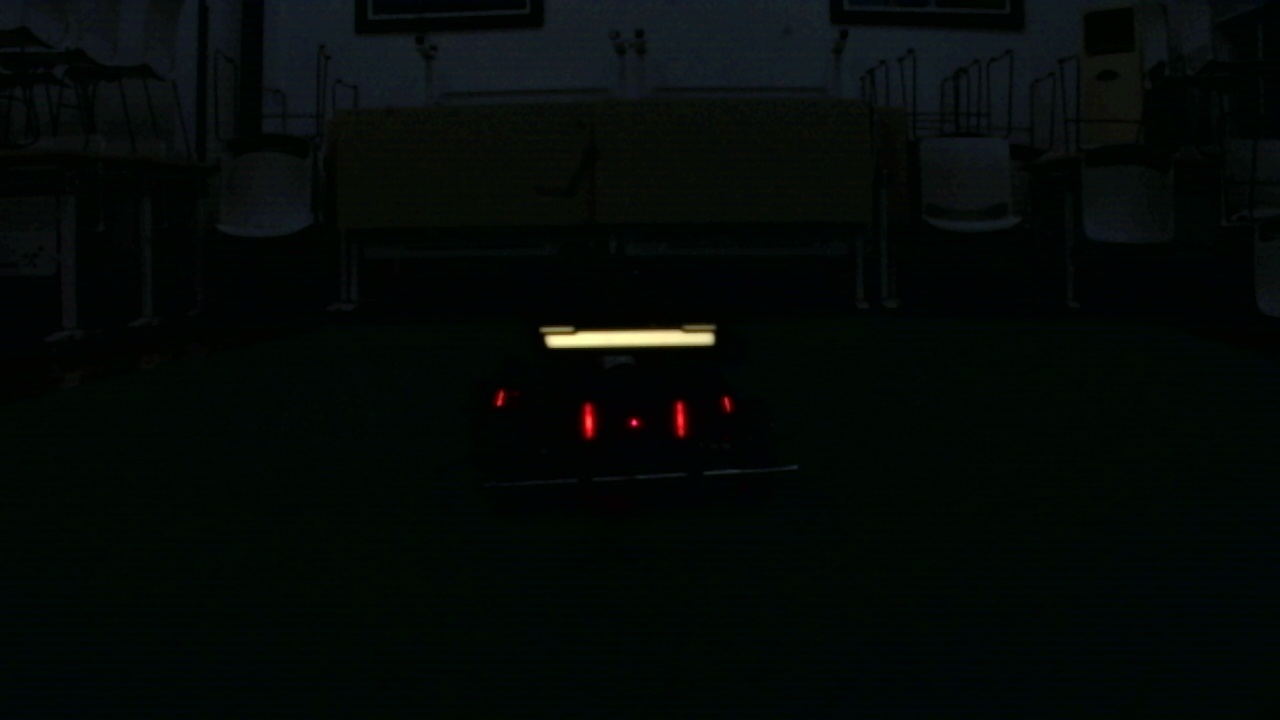lamp: (577, 404, 599, 437), (673, 401, 688, 434)
pair1: (581, 398, 688, 440)
